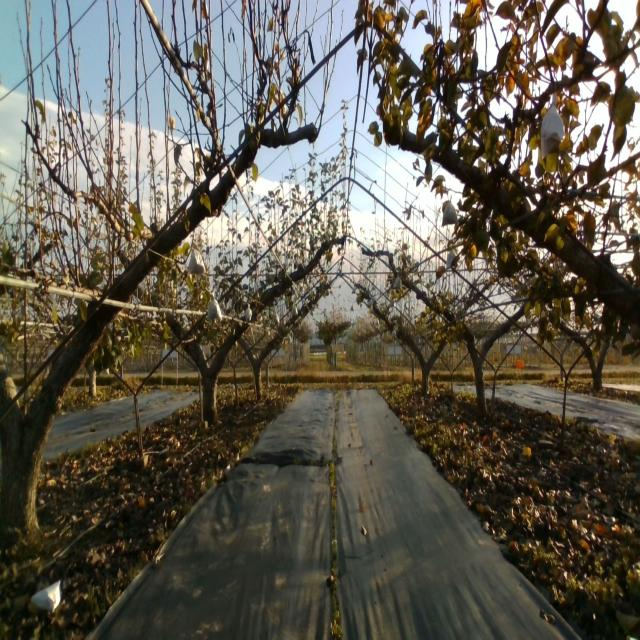pearbags: (540, 92, 564, 159), (441, 195, 458, 229), (188, 247, 206, 275), (208, 293, 222, 322), (446, 251, 458, 269)
